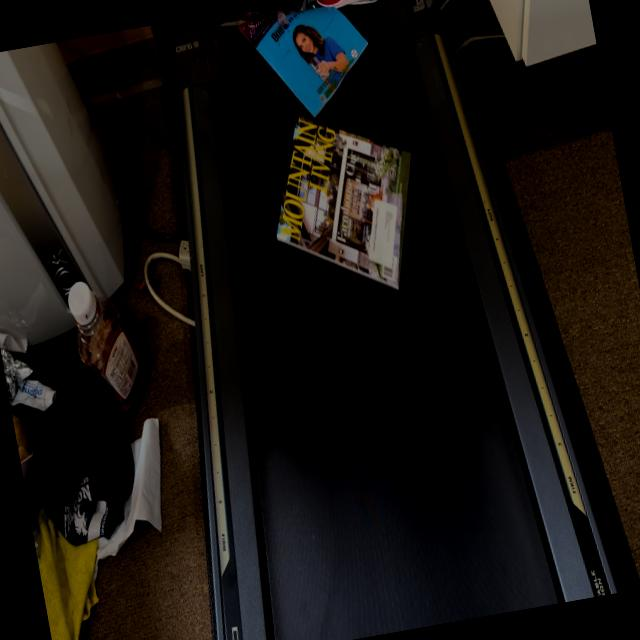Recycle: (253, 100, 438, 316), (227, 0, 380, 126)
